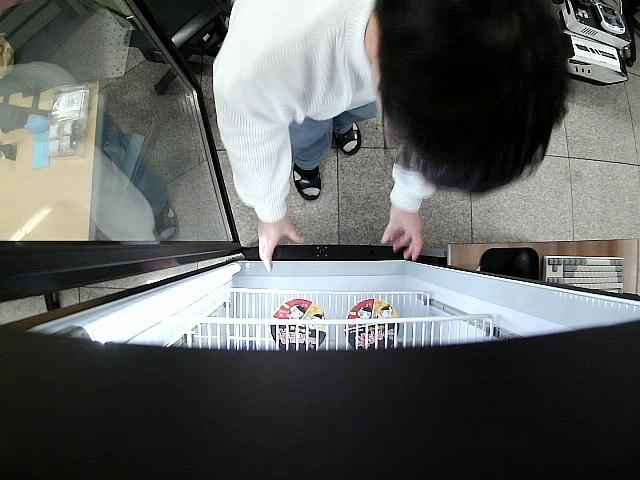00_hand: (258, 219, 307, 273), (381, 201, 423, 263)
